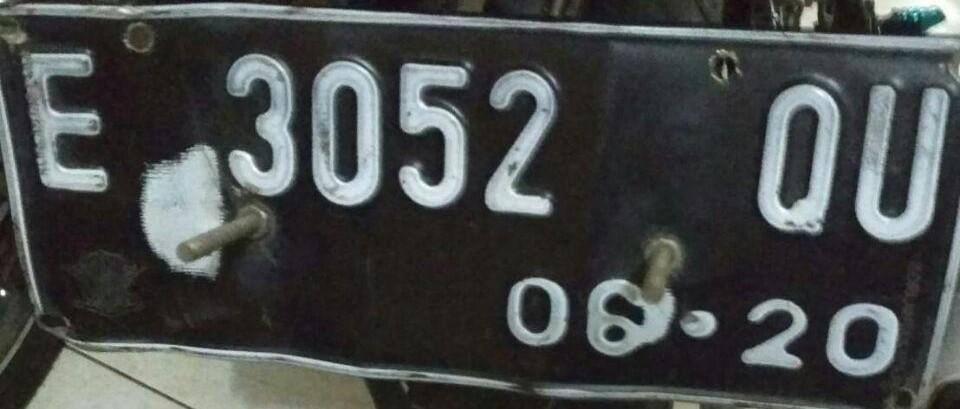0: (302, 52, 388, 214)
2: (471, 62, 570, 222)
3: (210, 50, 301, 213)
5: (383, 58, 484, 213)
E: (13, 47, 121, 206)
Q: (744, 73, 851, 243)
U: (848, 77, 952, 245)
